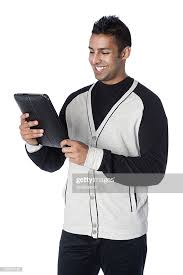Indian_Male: (88, 31, 130, 83)
